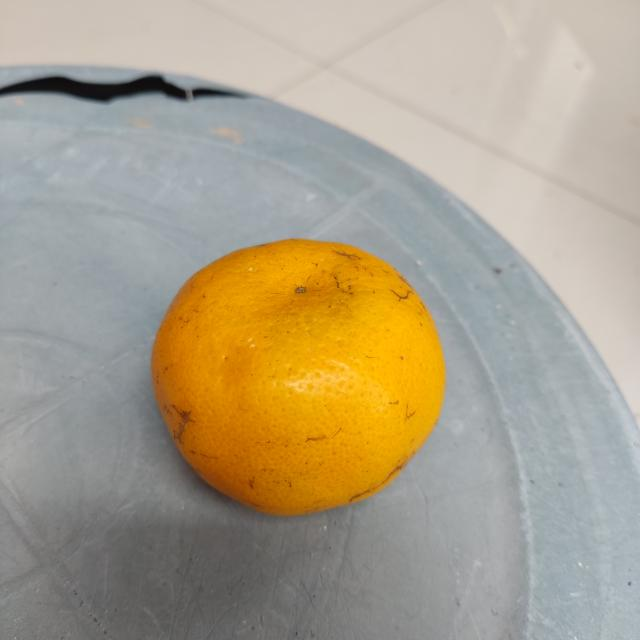orange: (152, 237, 445, 516)
